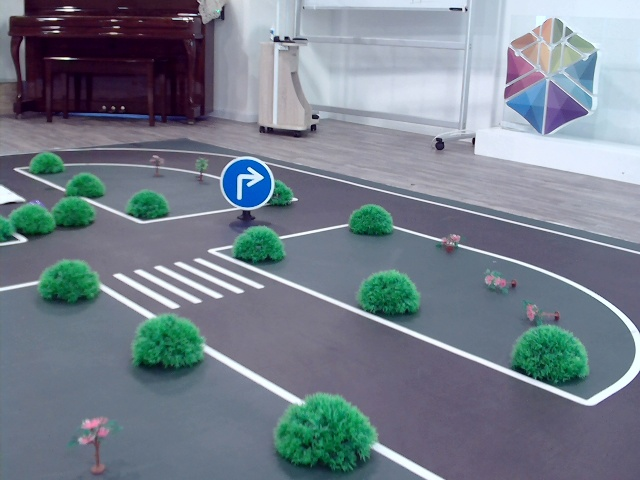turn_right: (231, 161, 264, 200)
